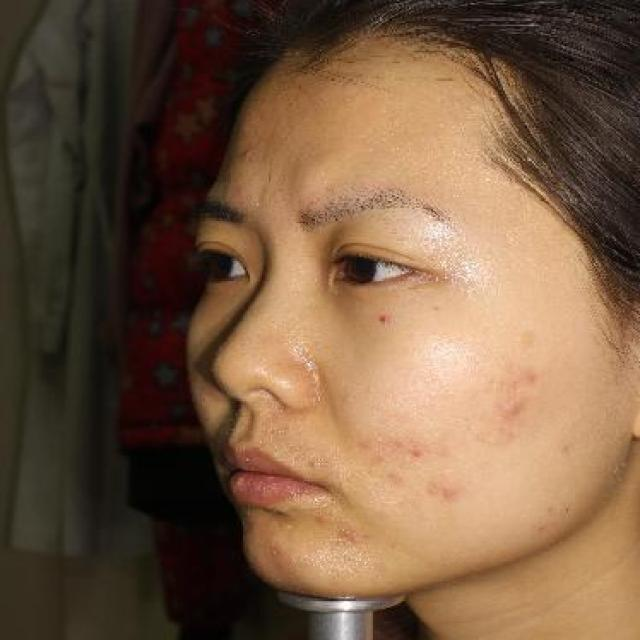dark spot: (510, 360, 553, 395), (397, 430, 435, 468), (498, 391, 530, 429), (424, 482, 470, 506), (334, 520, 373, 548), (373, 308, 399, 329)
